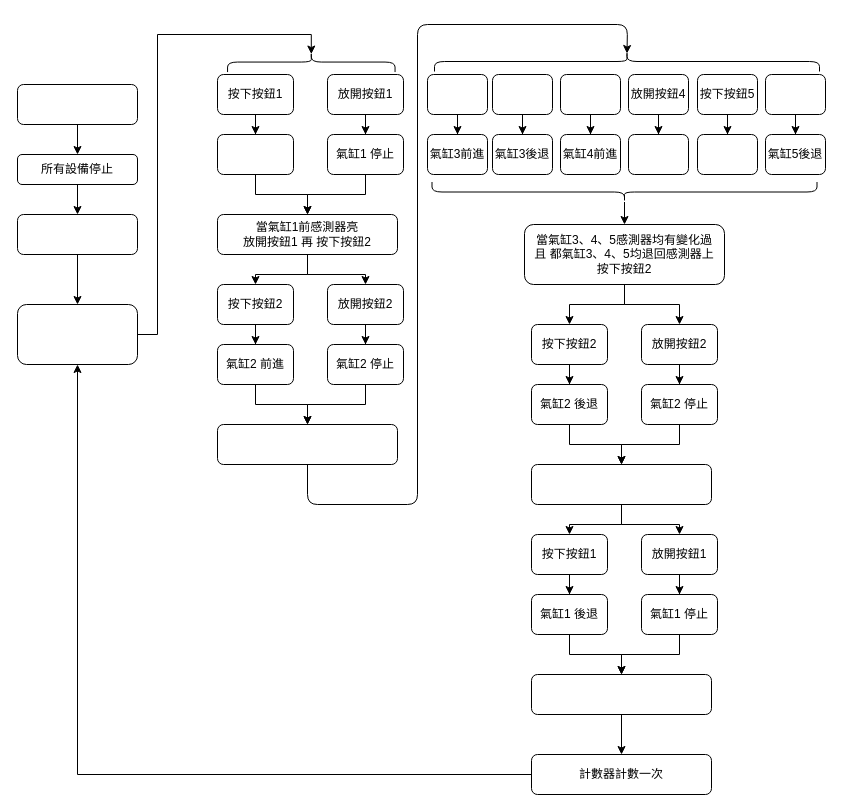
Image size: 843x812. Some labels were removed from this diagram. Here are the shapes that lost their labels. From the top down, the centre of each, then its label:
At point (77, 104): "當緊急開關按下".
At point (457, 94): "按下按鈕3".
At point (522, 94): "放開按鈕3".
At point (590, 94): "按下按鈕4".
At point (795, 94): "放開按鈕5".
At point (255, 154): "氣缸1 前進".
At point (658, 154): "氣缸4後退".
At point (727, 154): "氣缸5前進".
At point (77, 234): "解除緊急開關".
At point (77, 334): "所有設備依序回到初始狀態".
At point (307, 444): "當氣缸2前感測器亮 放開按鈕2 再 按下按鈕3".
At point (621, 484): "當氣缸2後感測器亮 放開按鈕2 再 按下按鈕1".
At point (621, 694): "當氣缸1後感測器亮 放開按鈕1".
